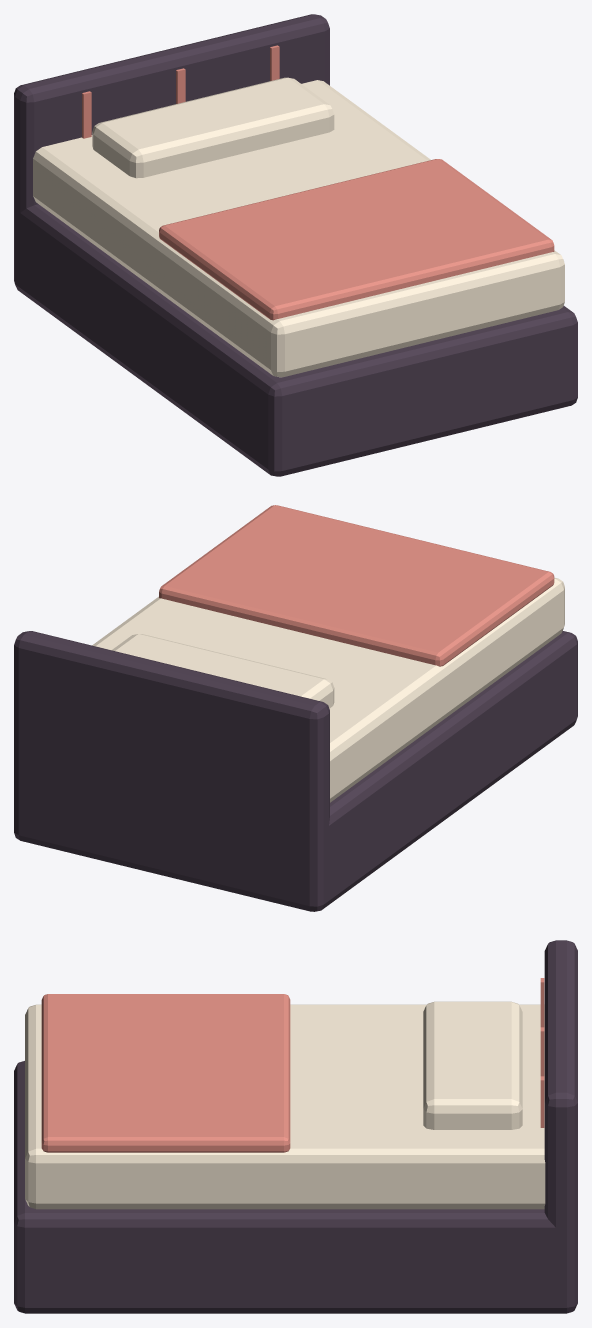
Rendered from prop_kasur_lv3.fbx.
3 renders of one model, top to bottom at view 1: azimuth 30°, elevation 25°; view 2: azimuth 150°, elevation 25°; view 3: azimuth 270°, elevation 25°, orthographic. The views are drawn at different scales.
Parts seen in each view (by area): view 1: prop_kasur_lv3; view 2: prop_kasur_lv3; view 3: prop_kasur_lv3.
Part boxes in pixels (box(x1,y1,x2,y2)): prop_kasur_lv3: box(14, 14, 577, 476); prop_kasur_lv3: box(14, 505, 577, 911); prop_kasur_lv3: box(14, 940, 577, 1313).
Size of the model in its own units: 138 by 88 by 204.
1 material, 1 textured.
